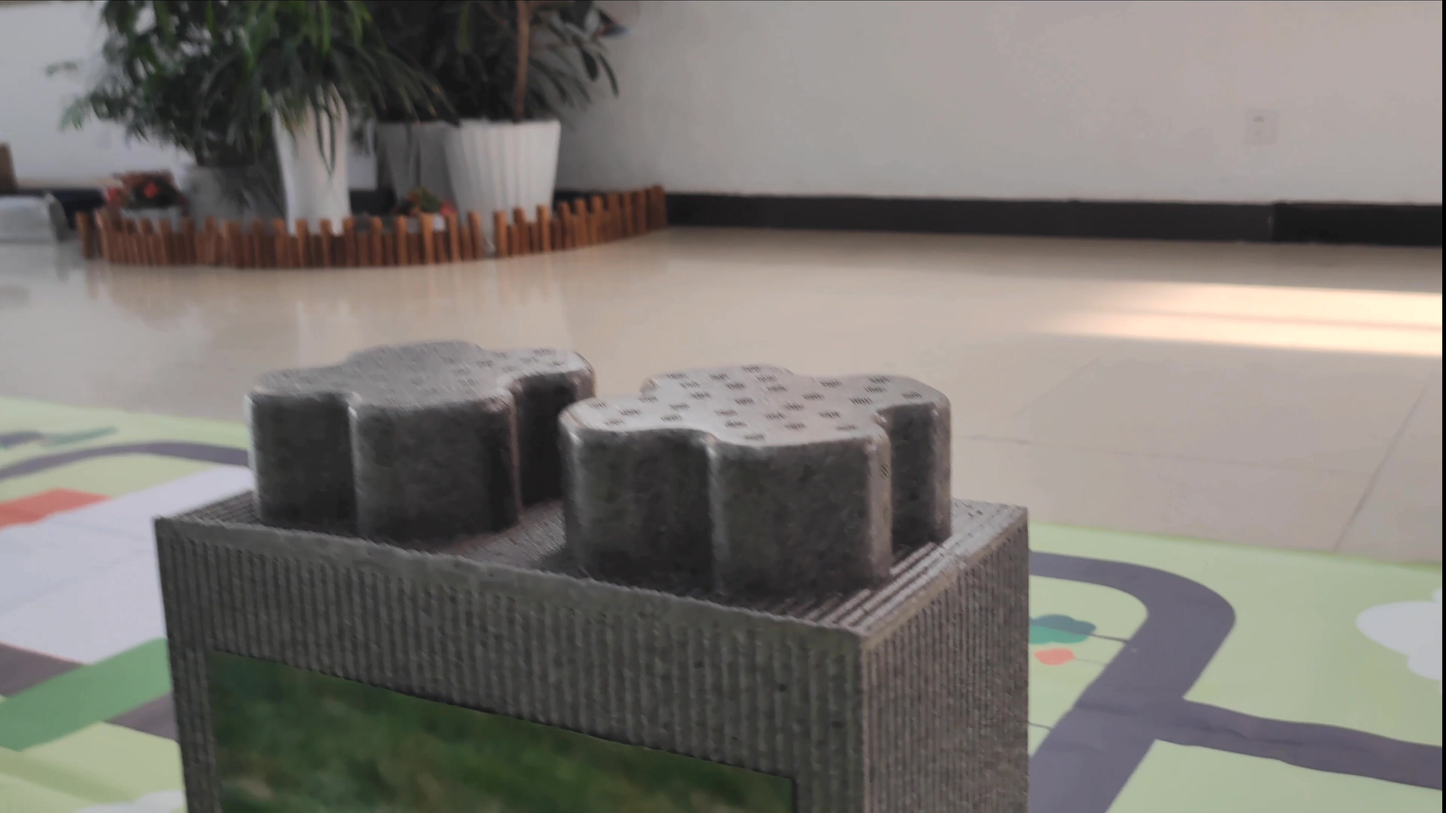panda: (264, 719, 547, 813)
